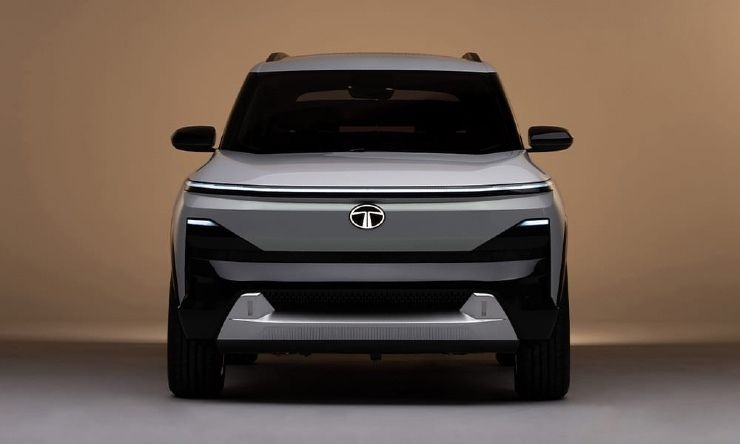Imprimante: (352, 210, 587, 347)
